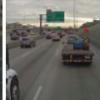cars: (7, 69, 22, 100), (20, 36, 34, 48)
